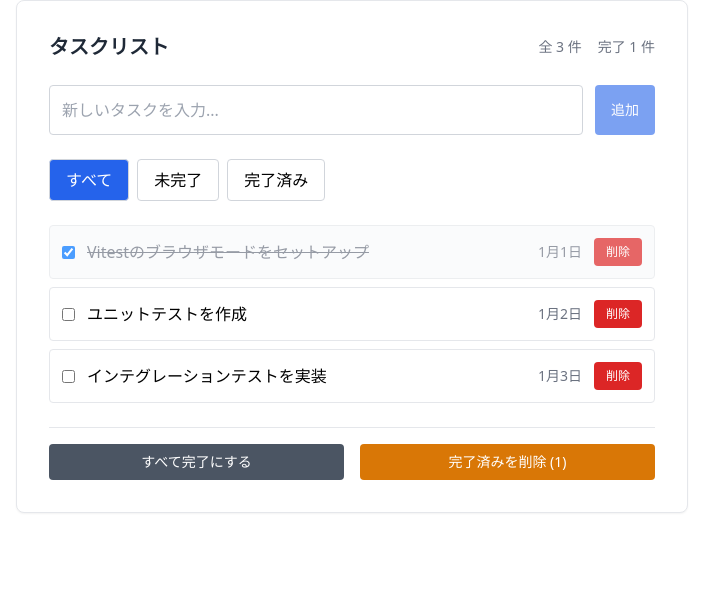
Scenario: TaskList コンポーネント › タスク追加機能 › Enterキーでタスクを追加できる
Type "Enterで追加されるタスク" into the field with test id "new-task-input".
click(316, 110); type("Enterで追加されるタスク")  # box [49,85,583,135]
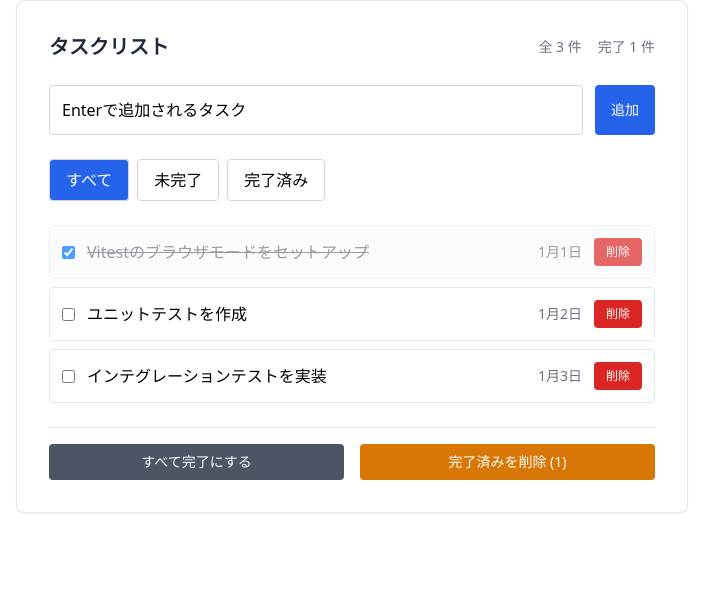
Press Enter in the field with test id "new-task-input", box [49,85,583,135]
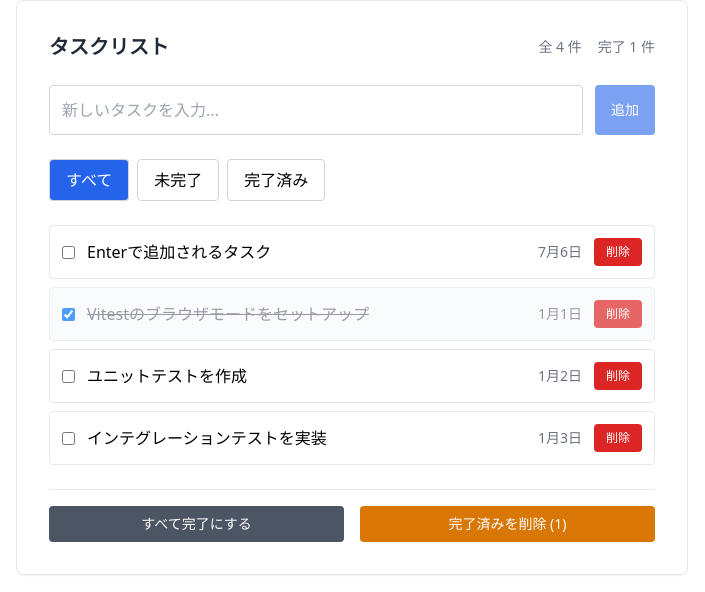
Check: the label with test id "task-label-" reads "Enterで追加されるタスク", box [87,241,271,263]
